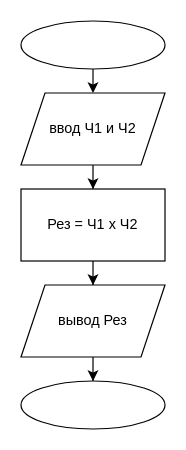
Some shapes in this 186 by 450 pixel diagram are drawn without their labels. The shapes that lost their labels are listed below. From the top down, each one's centre as x and y in pixels, then its label:
the point at 92,44: начало
the point at 92,404: конец
